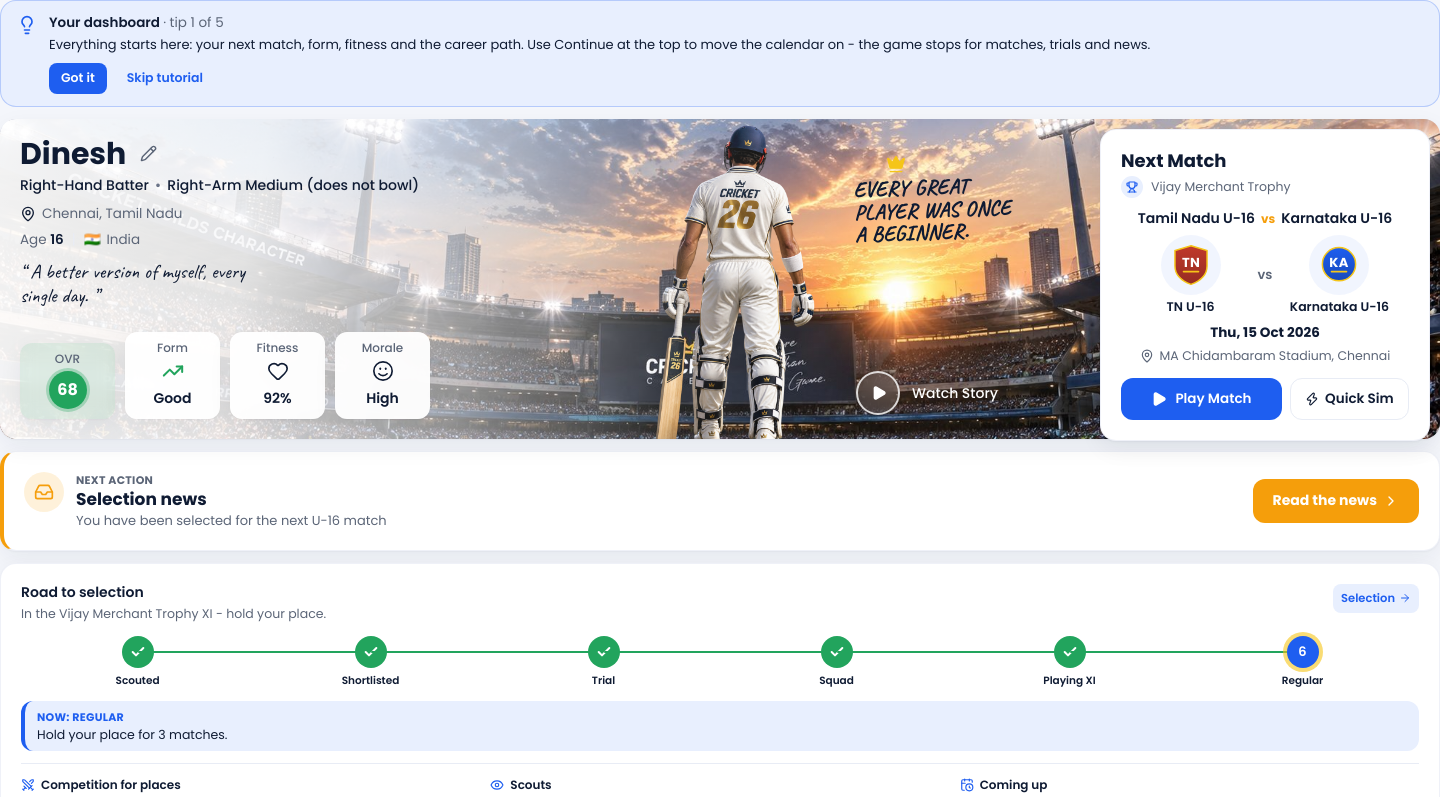
Home: next action first › selection news opens in place and, once read, stops being the next thing
Expected: the heading "Selection news" is shown, [76,486,207,510]
What coordinates should you click on to do the following:
click the button "Read the news"
I would click on:
 (1336, 501)
Its box is [1252,479,1419,523].
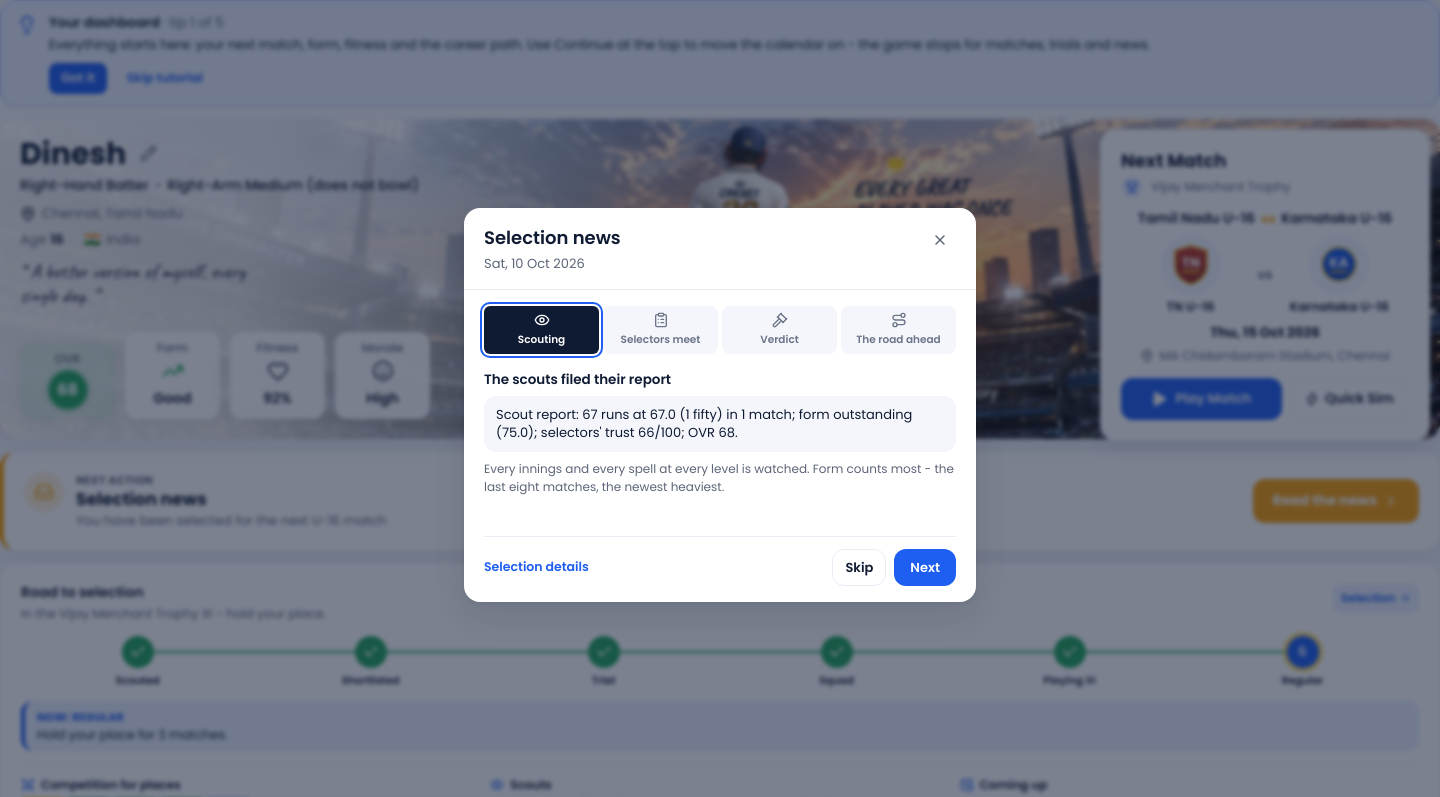
What coordinates should you click on to do the following:
click the button "Next"
I would click on:
 (925, 568)
Its box is [894,549,956,586].
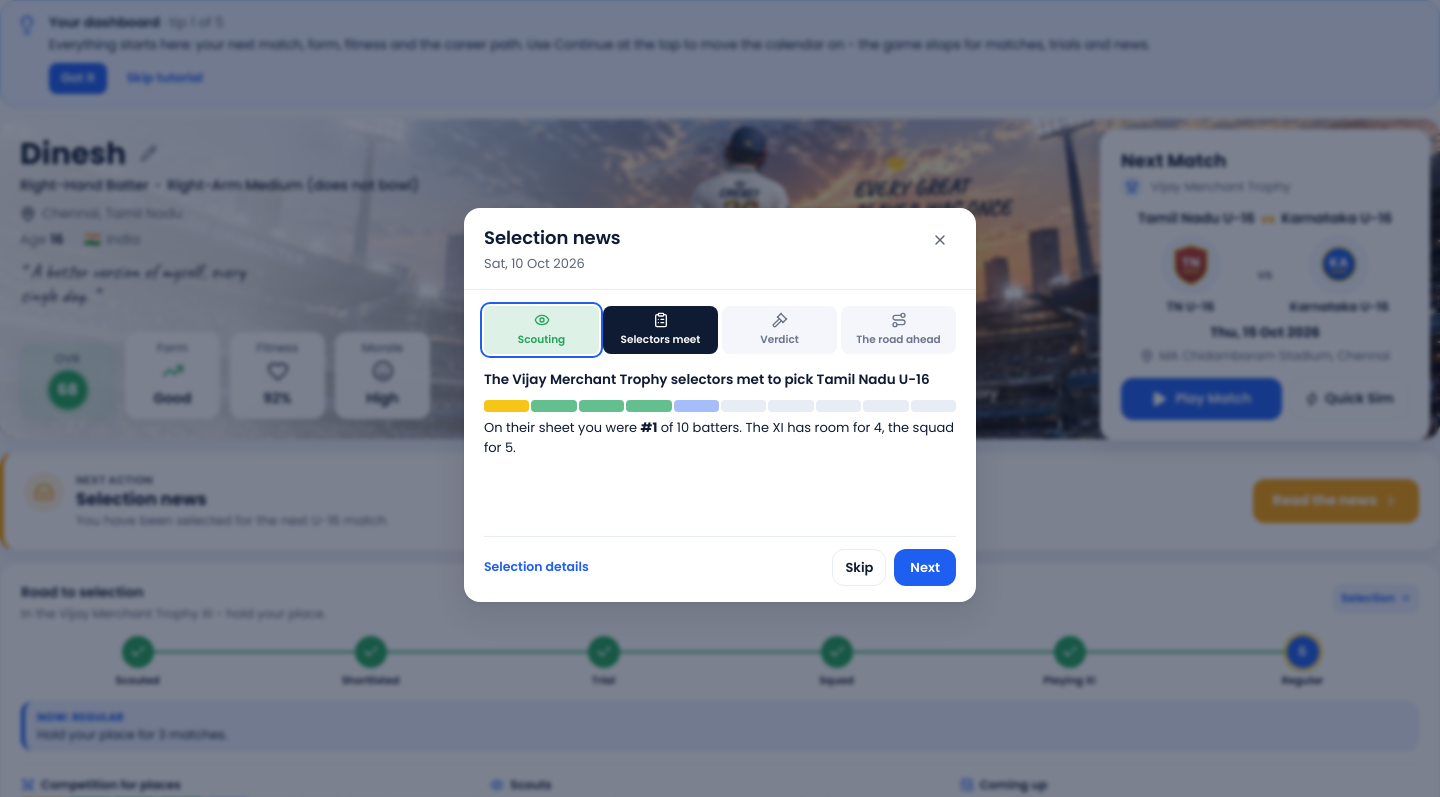
What coordinates should you click on to do the following:
click the button "Next"
I would click on:
 (925, 568)
Its box is [894,549,956,586].
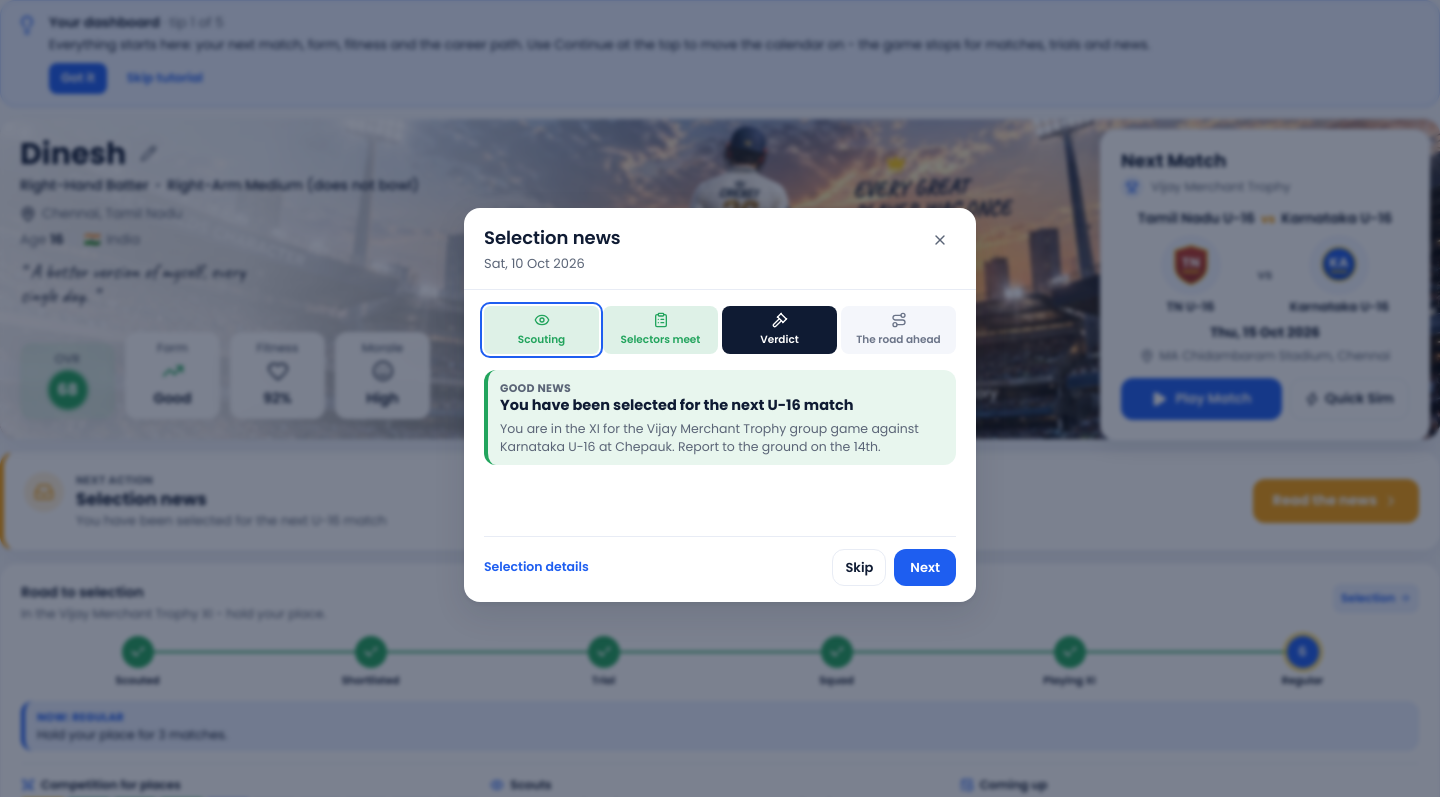
What coordinates should you click on to do the following:
click the button "Next"
I would click on:
 (925, 568)
Its box is [894,549,956,586].
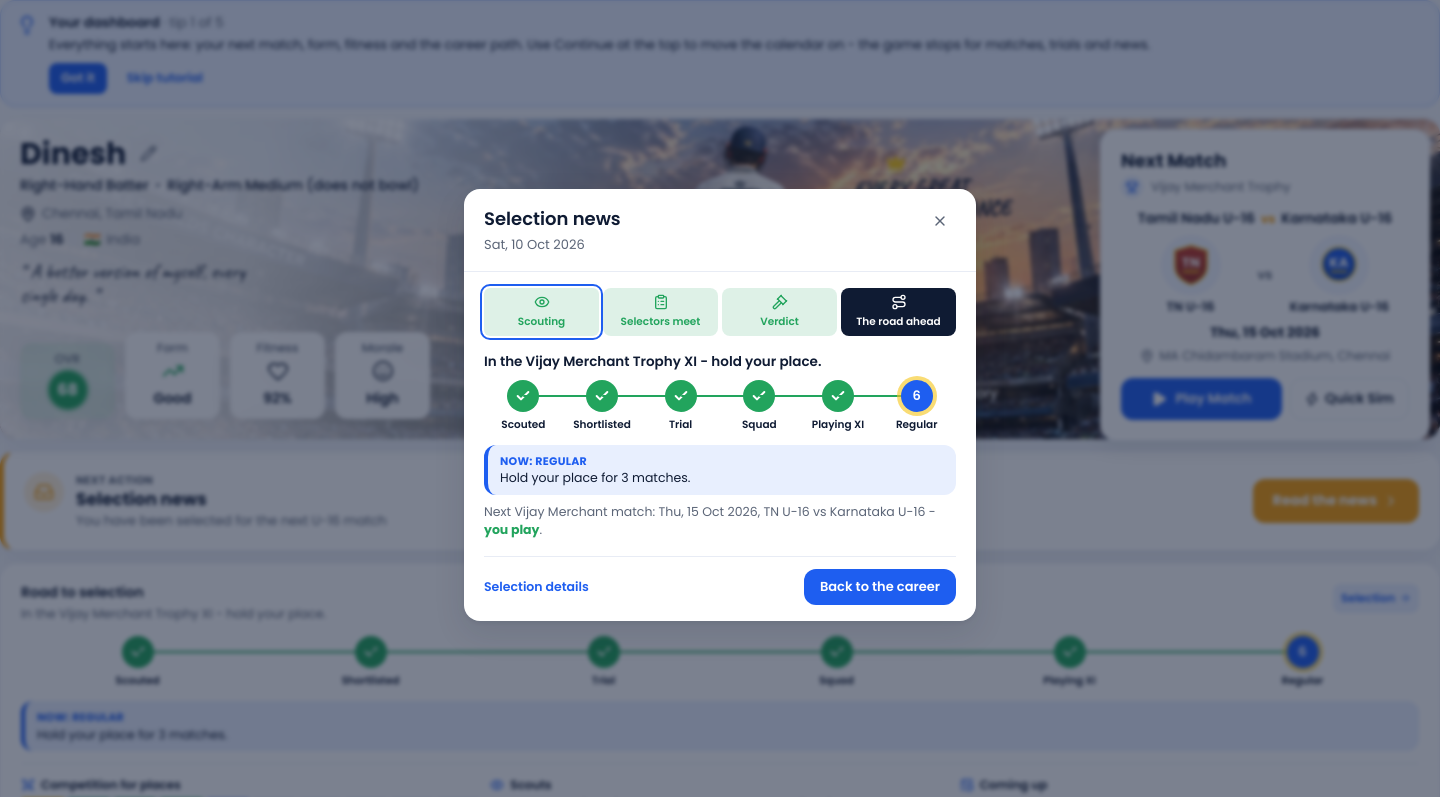
What coordinates should you click on to do the following:
click the button "Back to the career"
I would click on:
 (880, 587)
Its box is [804,569,956,605].
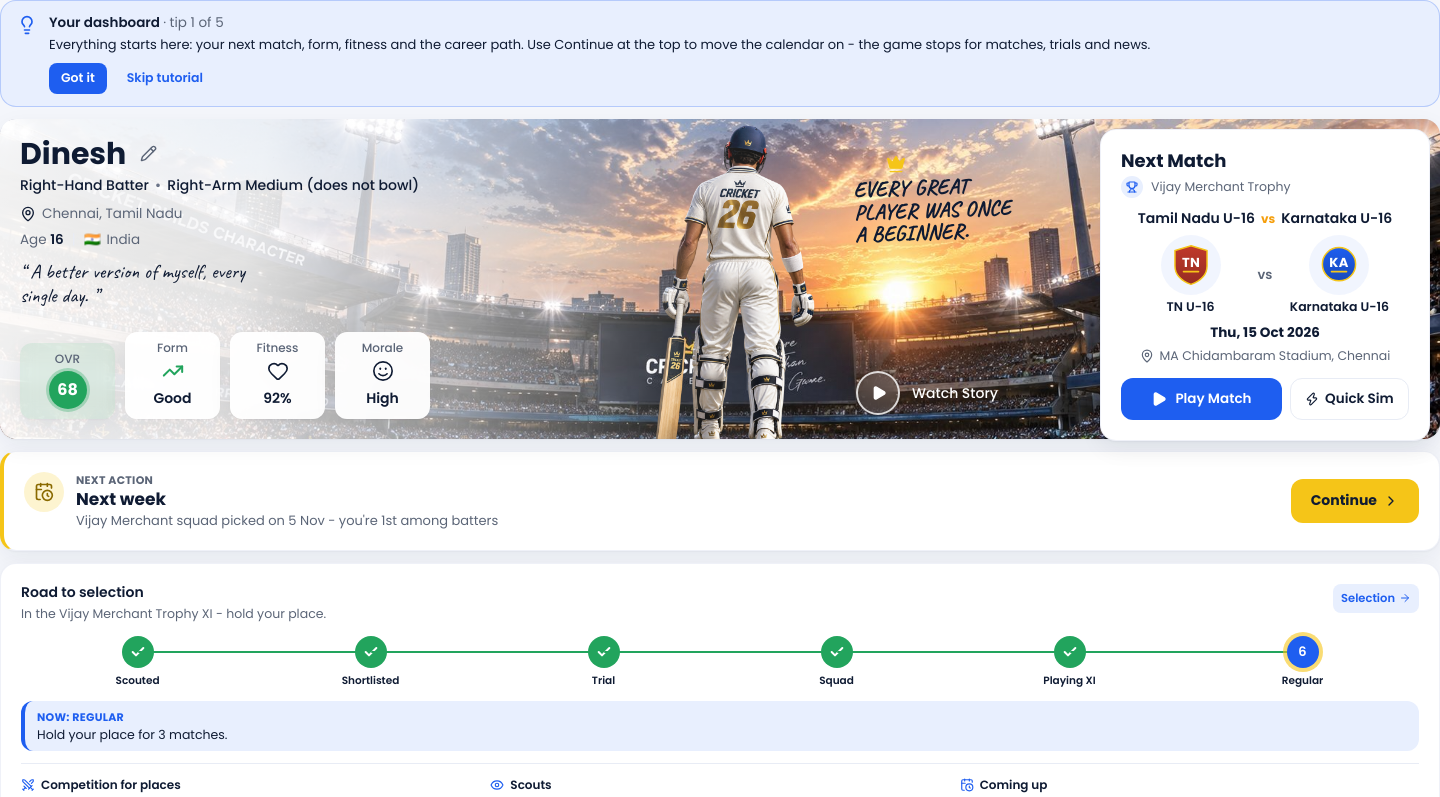
Expected: the dialog is gone
